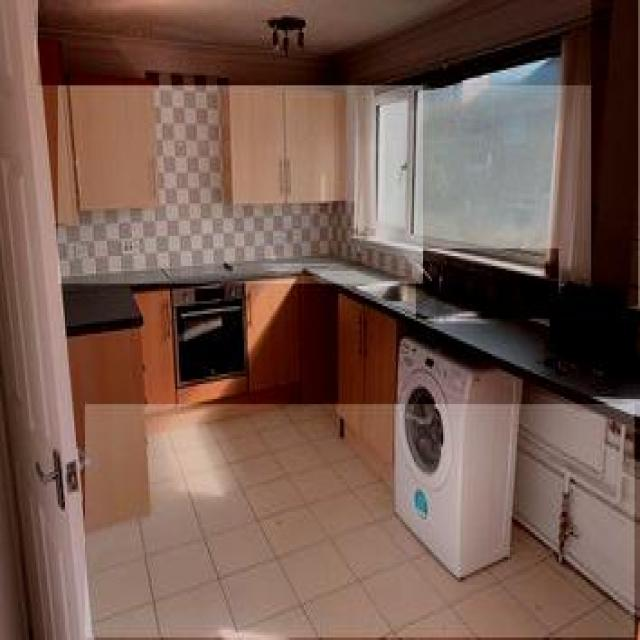Wall: (87, 405, 635, 637), (58, 74, 423, 284), (40, 0, 613, 85), (36, 2, 463, 58), (592, 0, 638, 306), (417, 250, 559, 319)
